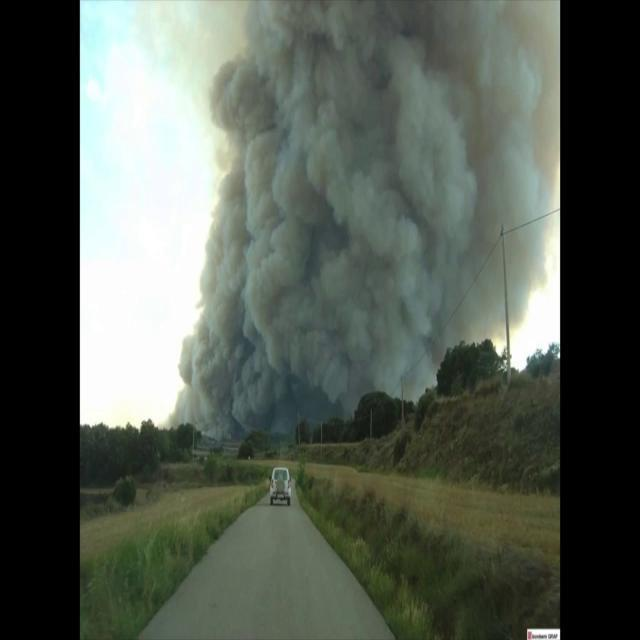Smoke: (175, 0, 558, 423)
